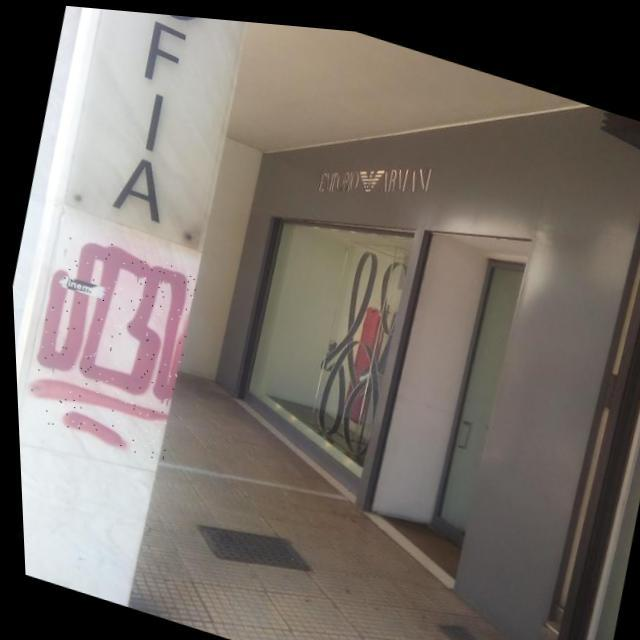-: (14, 223, 203, 462)
